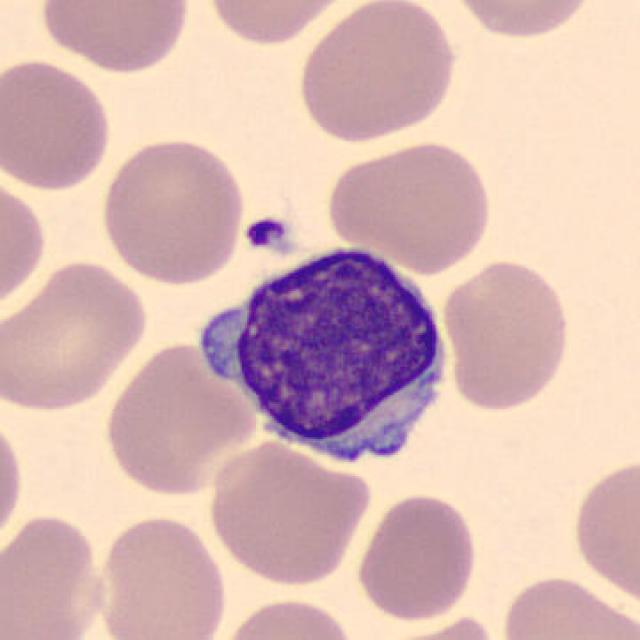Lymphocyte: (187, 236, 462, 476)
Platelets: (240, 213, 295, 254)
RBC: (100, 337, 260, 499), (205, 437, 375, 589), (292, 0, 460, 145), (324, 136, 496, 273), (2, 256, 151, 414), (96, 134, 249, 287), (438, 256, 574, 414), (93, 511, 231, 640), (352, 490, 482, 624), (1, 55, 116, 194), (0, 509, 110, 640), (35, 0, 194, 76), (567, 453, 638, 610), (496, 571, 638, 640), (199, 0, 363, 48), (0, 171, 50, 317), (441, 0, 603, 41), (215, 594, 359, 640), (0, 404, 27, 552), (362, 613, 508, 640)
